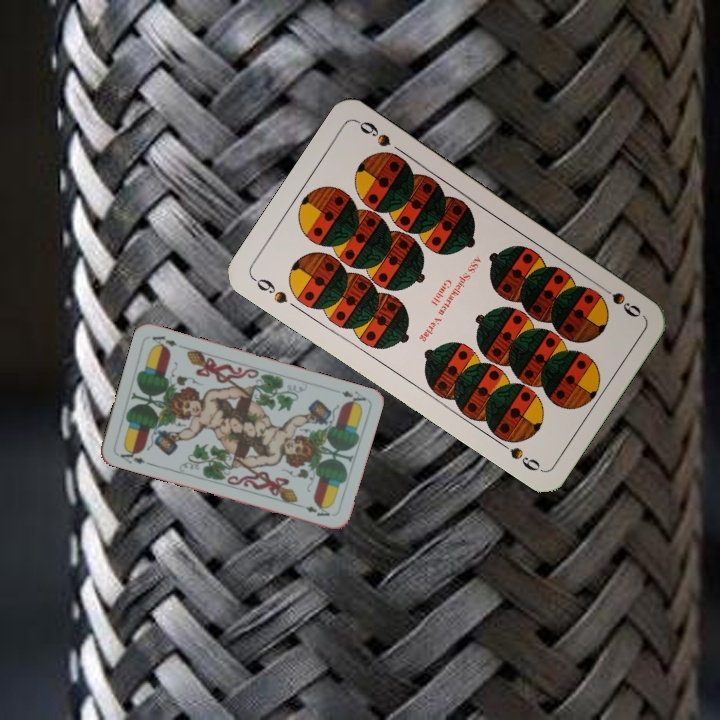EA: (116, 444, 153, 467), (337, 386, 369, 408)
S9: (593, 279, 644, 321), (248, 273, 291, 307)
